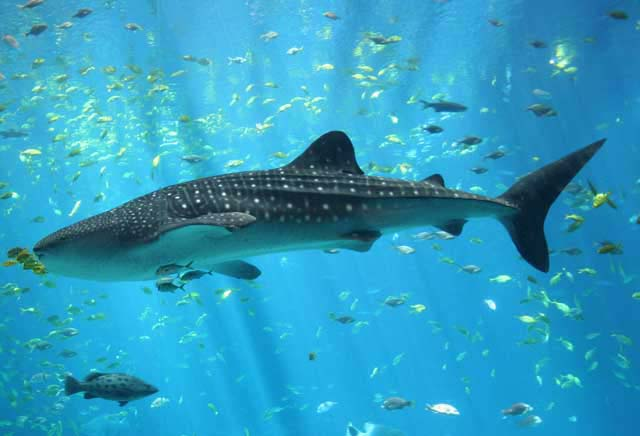Rhincodon_typusw: (35, 121, 618, 287)
